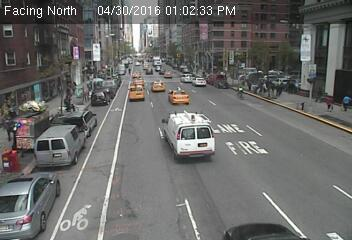neg: (234, 83, 246, 99), (264, 83, 275, 97), (216, 76, 224, 88)
pos: (322, 92, 337, 112), (338, 91, 351, 113)
